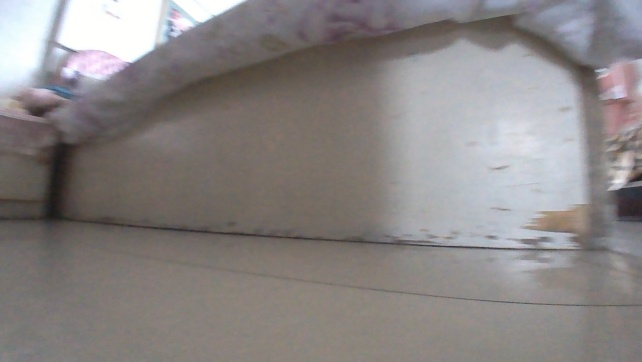bed: (52, 0, 636, 260)
cabinet: (0, 104, 49, 222)
